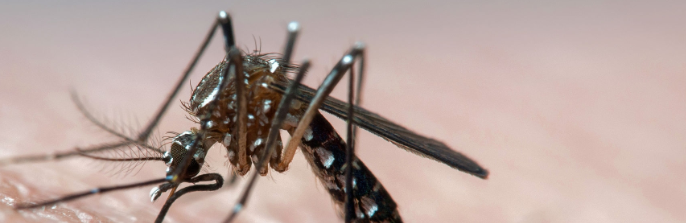dengue_mosquito: (69, 12, 487, 218)
